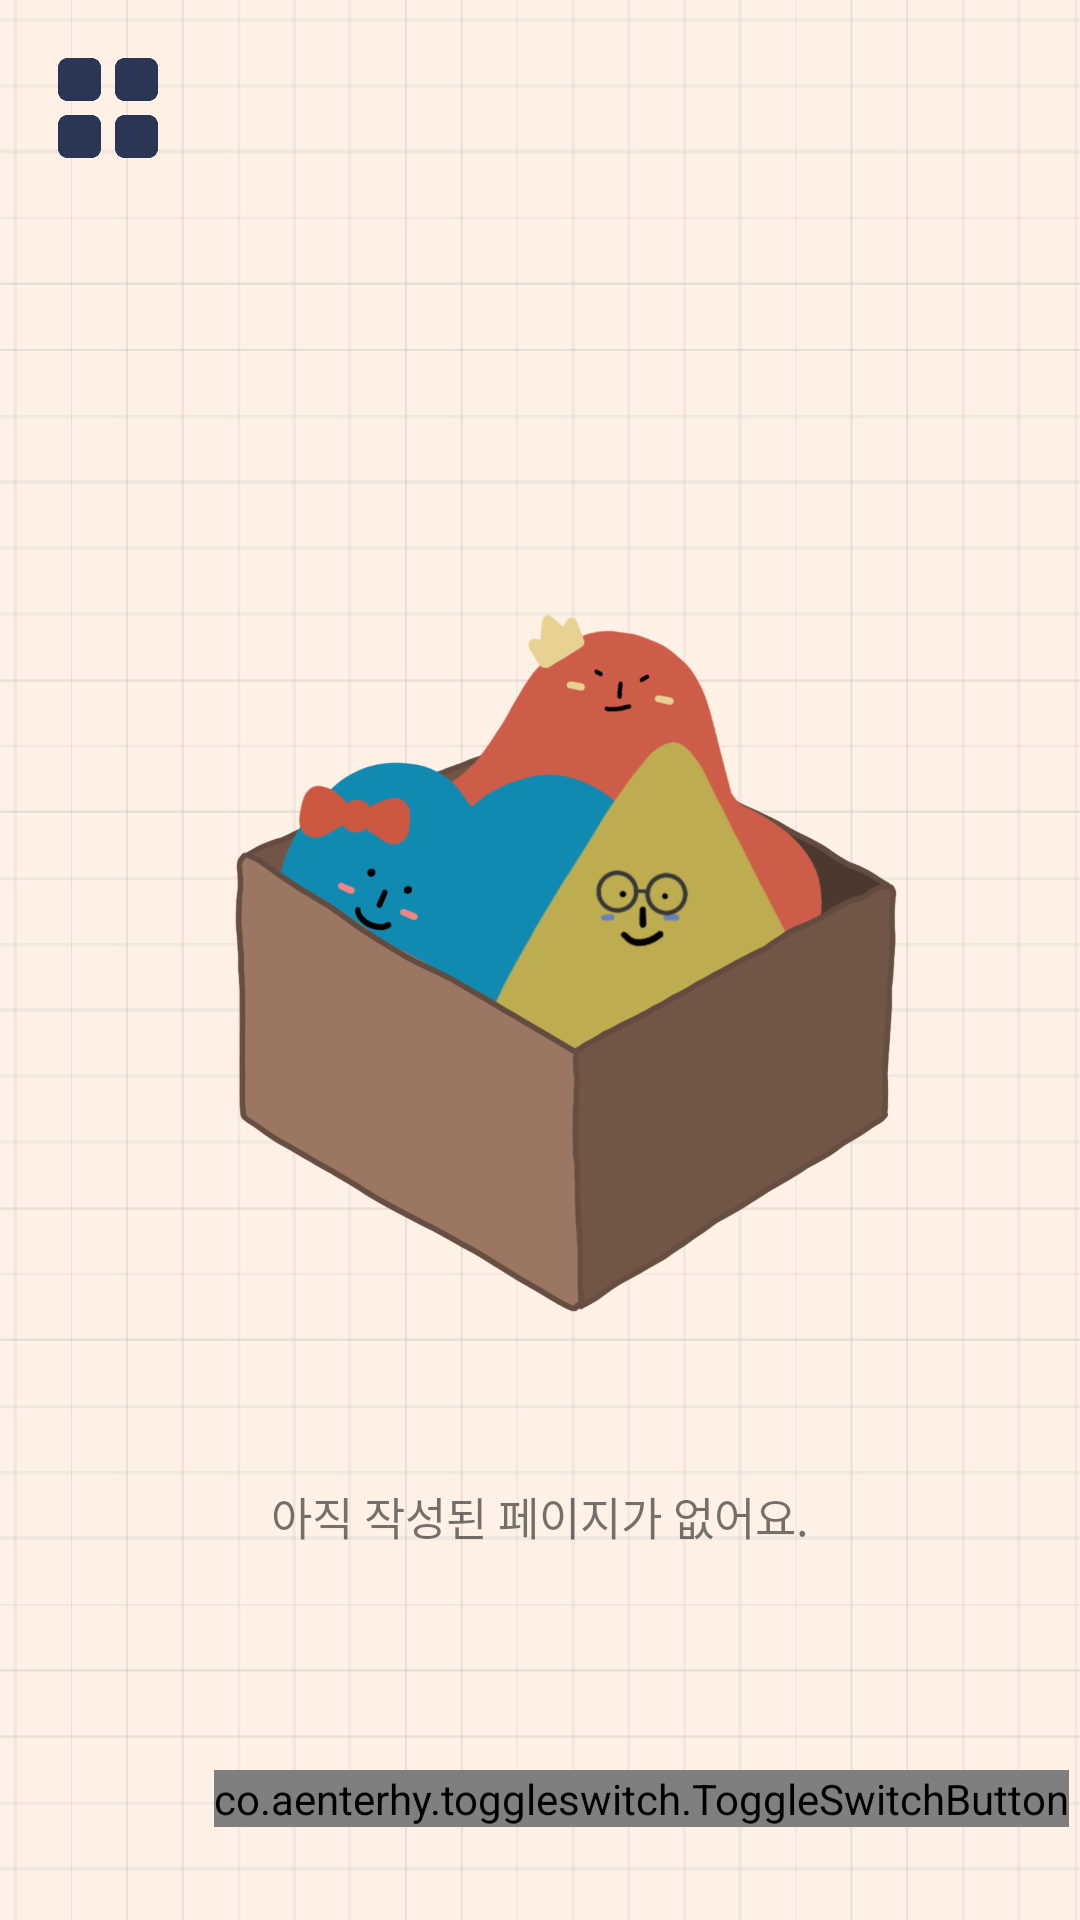

Named icons in this screenshot (1080px x 1920px) and their centers, point (x, y):
grid: point (108, 108)
